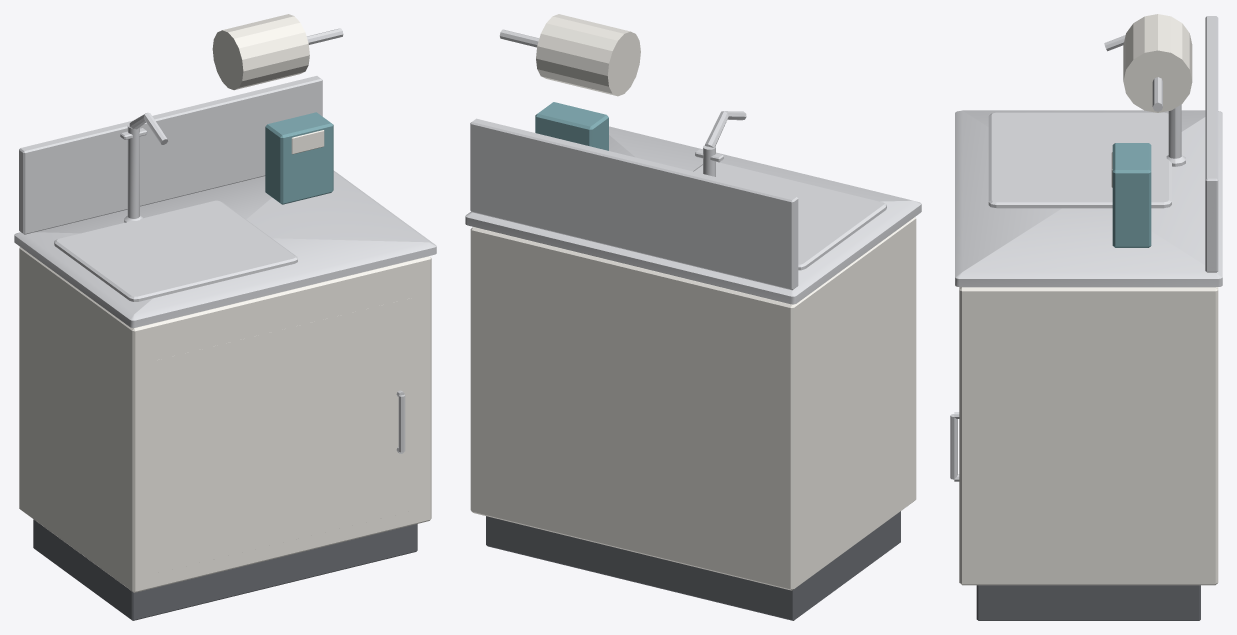
Rendered from care-home-and-day-room-sluice-sink-unit-e16f24f7__35759.glb.
3 views of the same model, side by side, from view 1: azimuth 30°, elevation 25°; view 2: azimuth 150°, elevation 25°; view 3: azimuth 270°, elevation 25° (orthographic). The views are drawn at different scales.
Visible parts, largest first — view 1: sluice-sink-unit, door-1/cream; view 2: sluice-sink-unit; view 3: sluice-sink-unit, door-1/metal.
Boxes of the visible parts, left/top/right/bottom form: sluice-sink-unit: left=14, top=14, right=436, bottom=620; door-1/cream: left=148, top=296, right=418, bottom=575; sluice-sink-unit: left=465, top=14, right=921, bottom=620; sluice-sink-unit: left=955, top=14, right=1222, bottom=620; door-1/metal: left=950, top=412, right=959, bottom=481.
Size of the model in its own units: 0.92 by 1.4 by 0.631.
